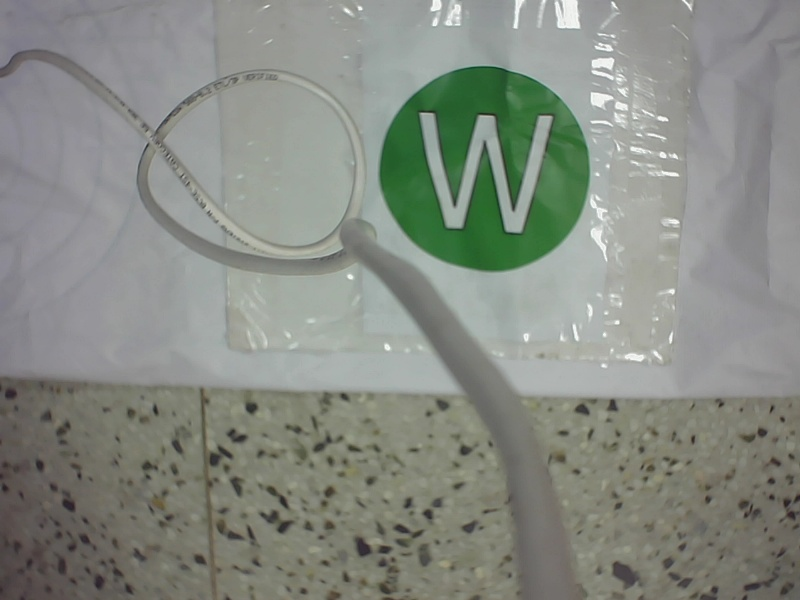areaB: (381, 55, 613, 272)
